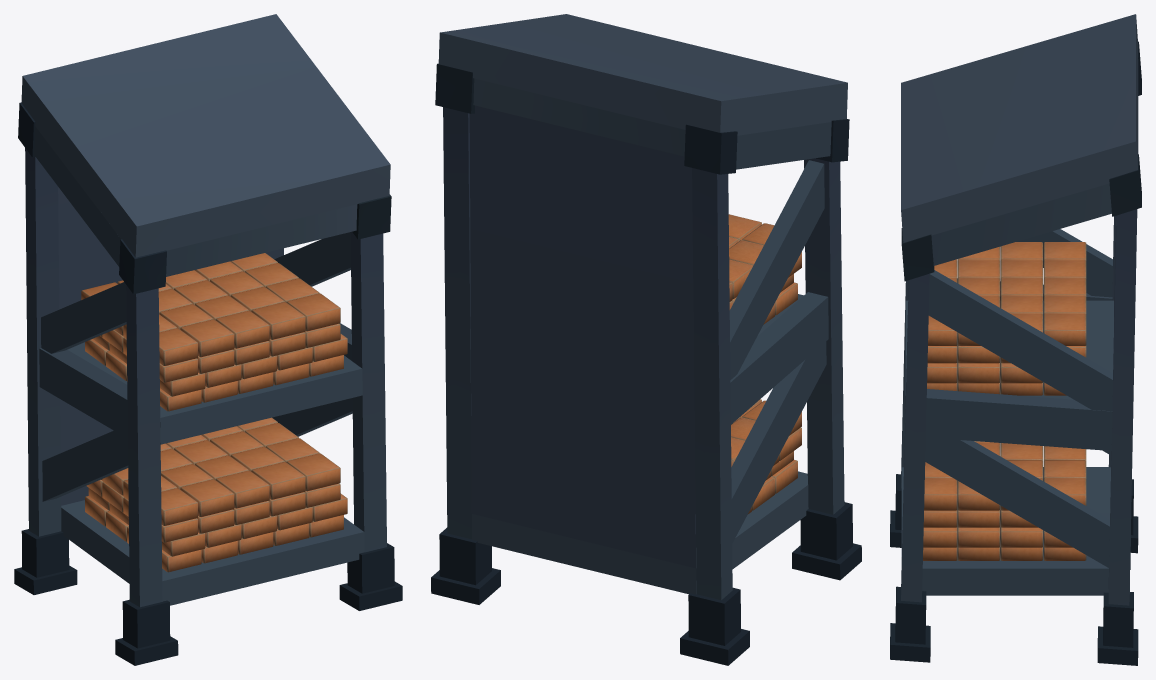
File: Tuğla dolabı.fbx
3 views of the same model, side by side, from view 1: azimuth 30°, elevation 25°; view 2: azimuth 150°, elevation 25°; view 3: azimuth 270°, elevation 25° (orthographic). The views are drawn at different scales.
Visible parts, largest first — view 1: Cube.067; view 2: Cube.067; view 3: Cube.067.
Boxes of the visible parts, x1,y1,x2,y2 form: Cube.067: (14,14,402,665); Cube.067: (431,14,861,665); Cube.067: (890,14,1141,665).
Size of the model in its own units: 123 by 223 by 97.59.
Materials: 2 (2 with a texture image).
